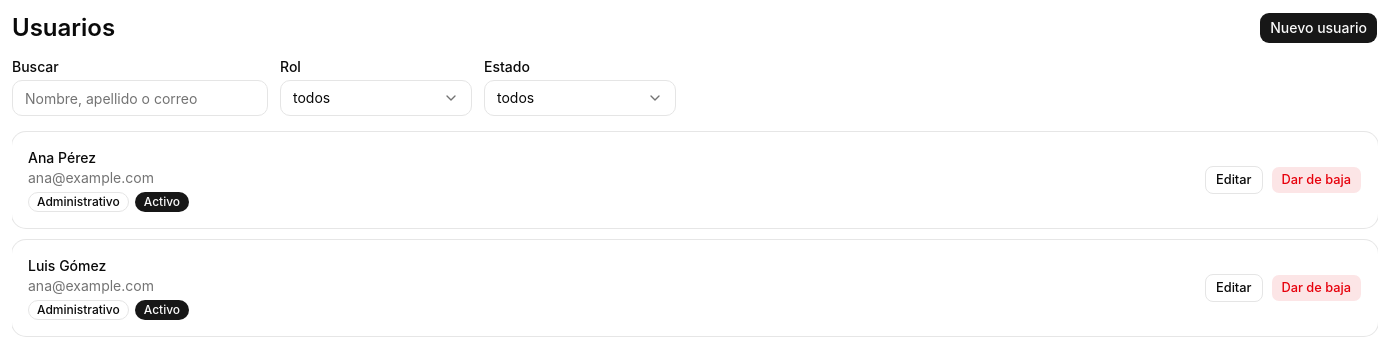
Test: UsersPage › deactivates a user after confirming the baja inline
Expected: the text "Ana Pérez" is shown, [28, 149, 96, 166]
Click the 1st button "Dar de baja" at (1316, 180), box [1270, 166, 1362, 194]
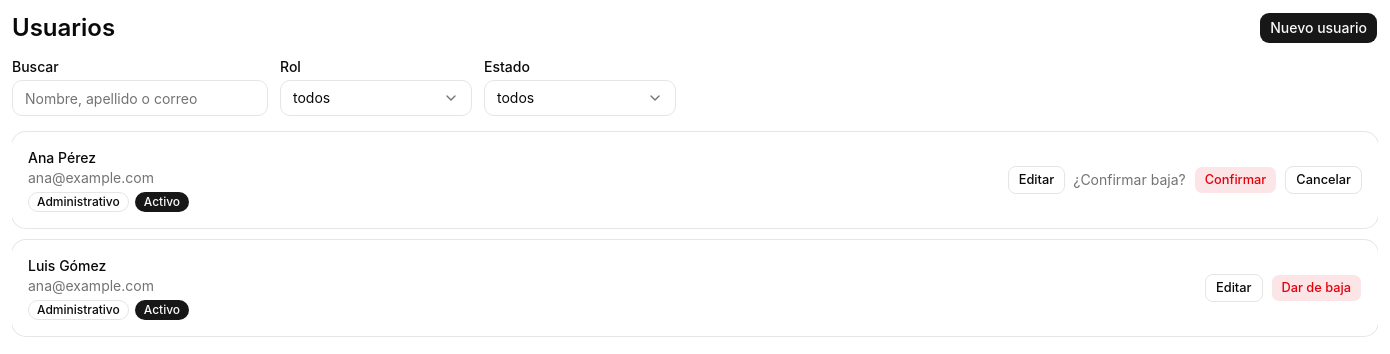
Result: the text "¿Confirmar baja?" is shown at [1073, 170, 1186, 190]
Click the button "Confirmar" at (1236, 180), box [1194, 166, 1277, 194]
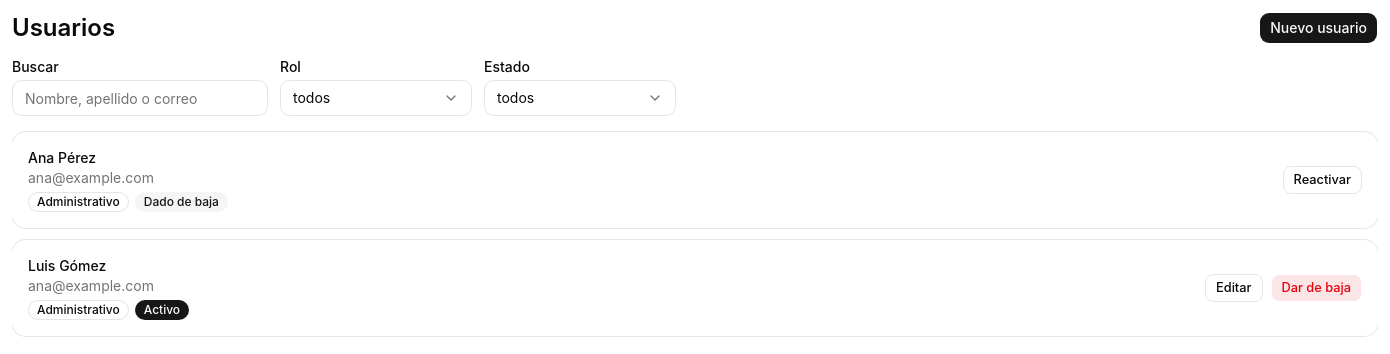
Expected: the number of icons "Activo" is 1, [135, 300, 189, 320]
Result: the text "Dado de baja" is shown at [135, 192, 228, 212]
